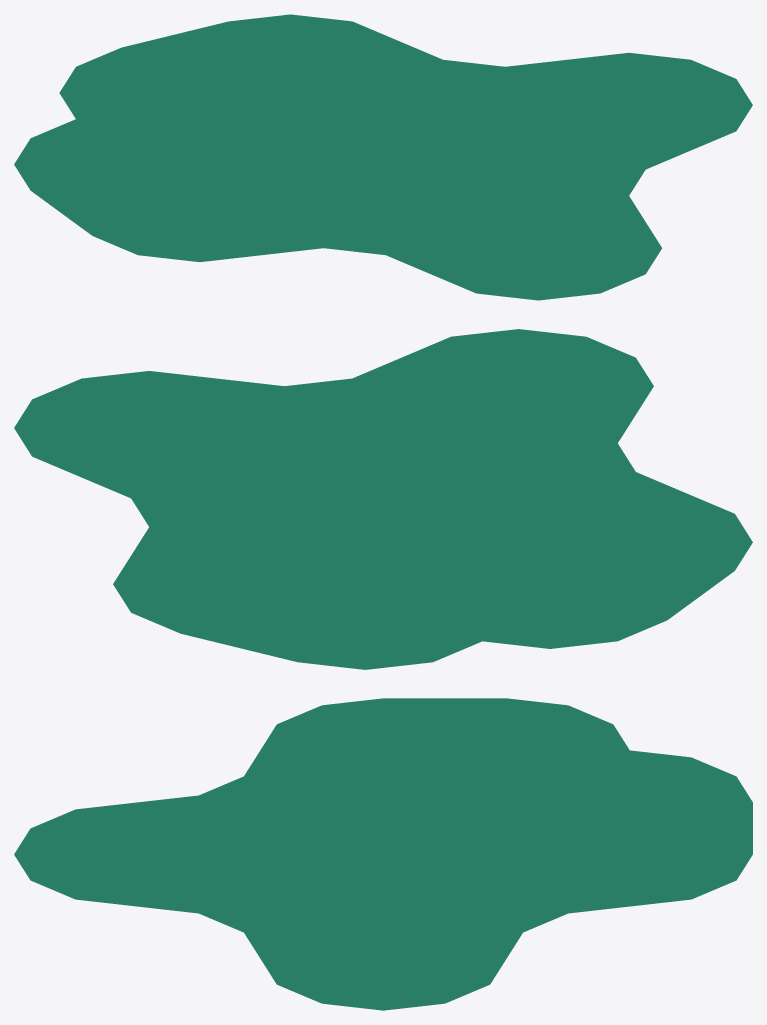
Rendered from patch-grass.glb.
3 renders of one model, top to bottom at view 1: azimuth 30°, elevation 25°; view 2: azimuth 150°, elevation 25°; view 3: azimuth 270°, elevation 25°, orthographic. The views are drawn at different scales.
Parts seen in each view (by area): view 1: patch-grass; view 2: patch-grass; view 3: patch-grass.
Boxes of the visible parts, box(x1,y1,x2,y2) form: patch-grass: box(14, 14, 752, 300); patch-grass: box(14, 329, 752, 669); patch-grass: box(14, 698, 752, 1010).
Size of the model in its own units: 1.2 by 0 by 1.2.
1 material, 1 textured.
